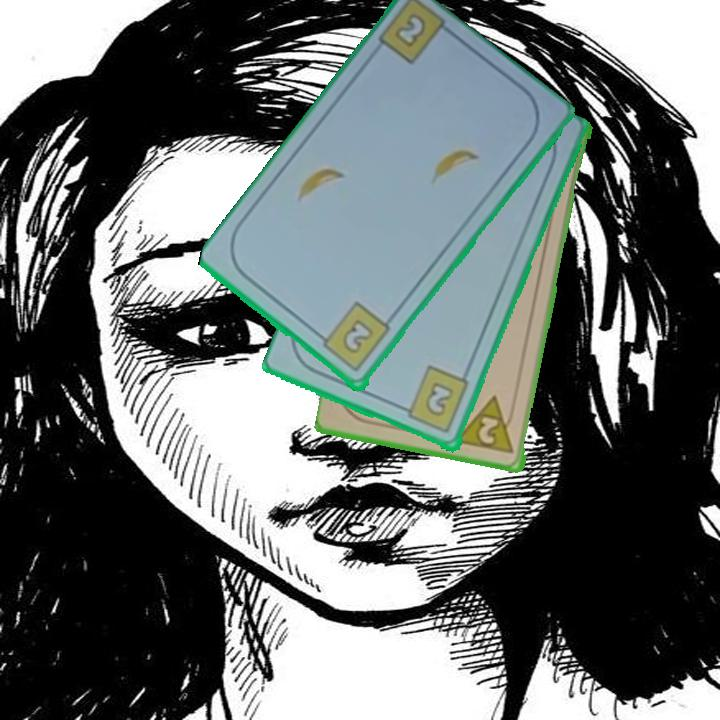2b: (313, 299, 393, 376), (396, 363, 472, 437), (391, 10, 430, 51)
2p: (455, 393, 518, 457)
